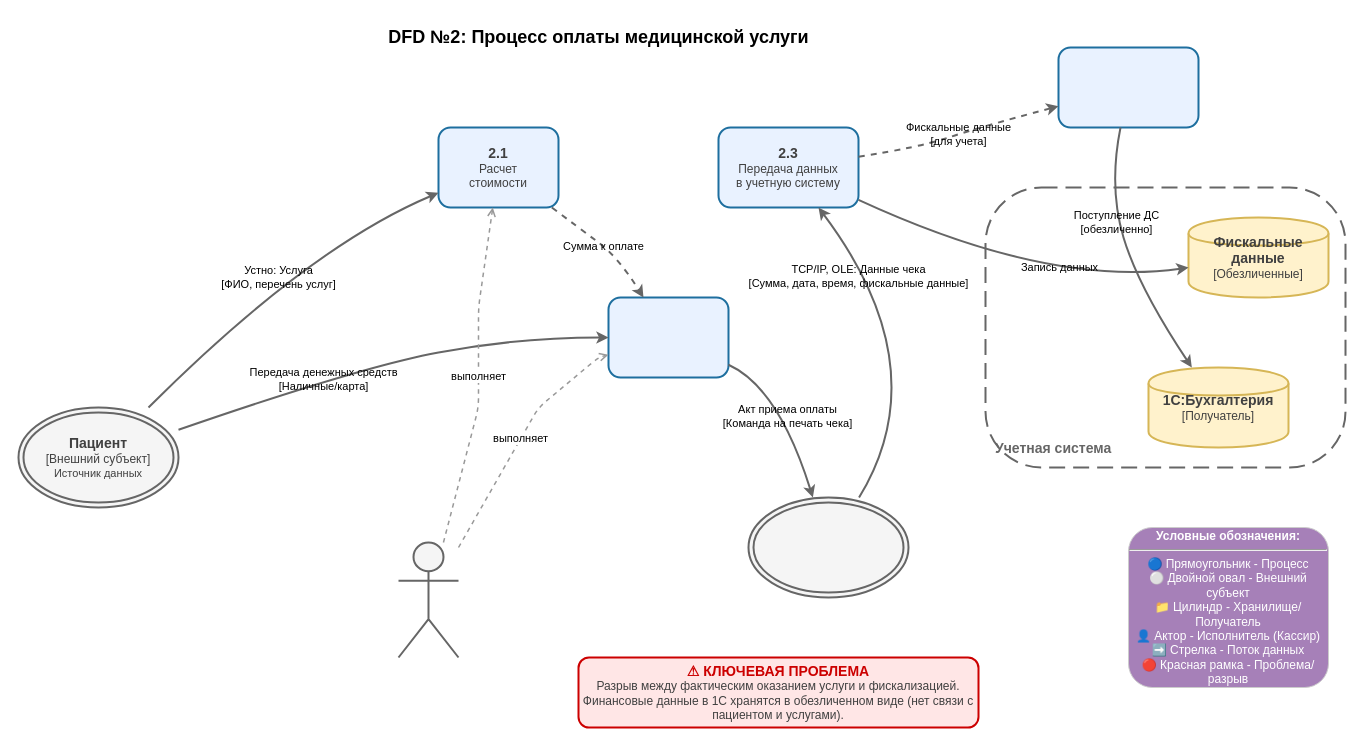
This 1363x745 diagram has some shape labels left out. Each missing label, with the centre of its shape:
2.2 Прием оплаты: the point at 668,337
2.4 Отражение в бухгалтерском учете: the point at 1128,87
Кассир [Исполнитель]: the point at 428,599
ККМ [Внешний субъект] Контрольно-кассовая машина: the point at 828,547
